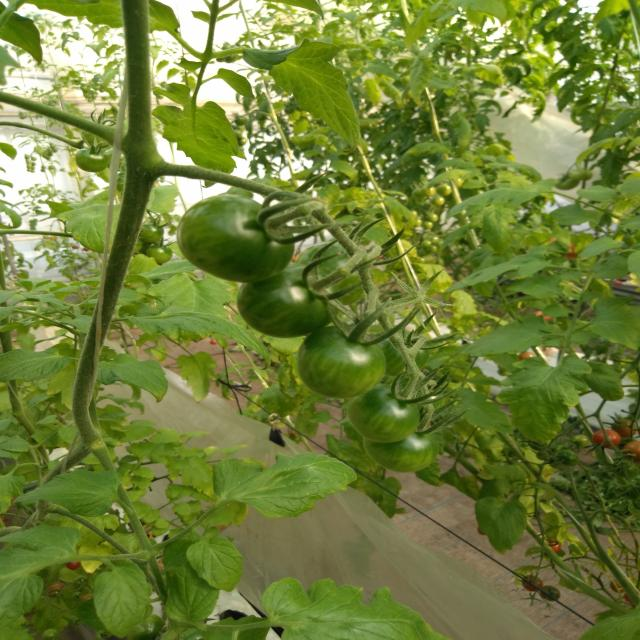c-riped: (591, 429, 621, 448)
c-unriped: (177, 194, 294, 283), (237, 264, 342, 338), (296, 326, 388, 399), (292, 242, 372, 306), (348, 383, 420, 444), (363, 421, 439, 473), (377, 332, 431, 377), (75, 148, 109, 173), (140, 222, 164, 244), (147, 245, 173, 263)
